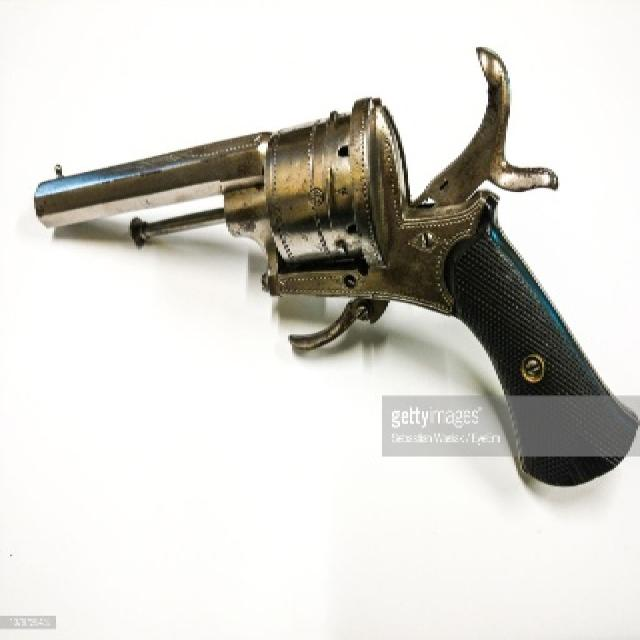handgun: (31, 37, 639, 486)
